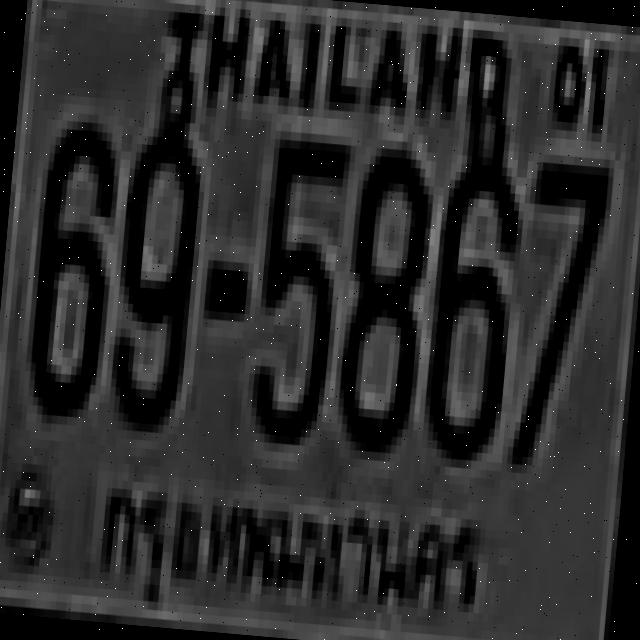5: (244, 130, 346, 438)
6: (419, 146, 521, 454), (22, 110, 118, 410)
7: (506, 153, 609, 470), (512, 153, 609, 403)
8: (330, 137, 432, 446)
9: (105, 109, 203, 426)
Bangkok: (86, 462, 504, 638)
